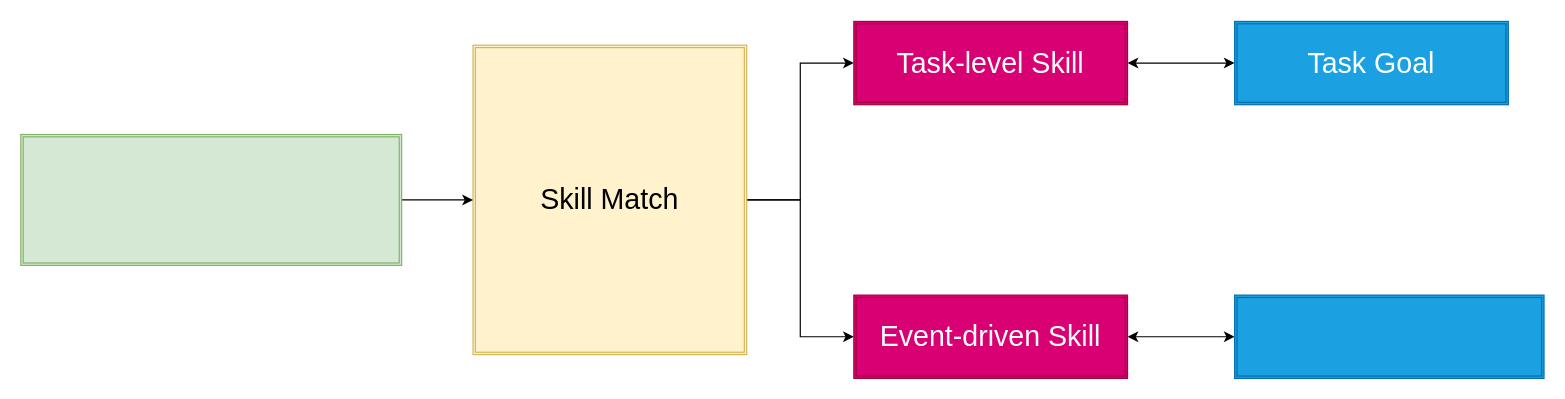
Image size: 1565x399. Some labels were removed from this diagram. The shapes that lost their labels are listed below. From the top down, each one's centre as x and y in pixels, then its label:
the point at 211,199: Task Solving: Retrieval Skill Bank
the point at 1388,336: Agent's current reasoning, observation
